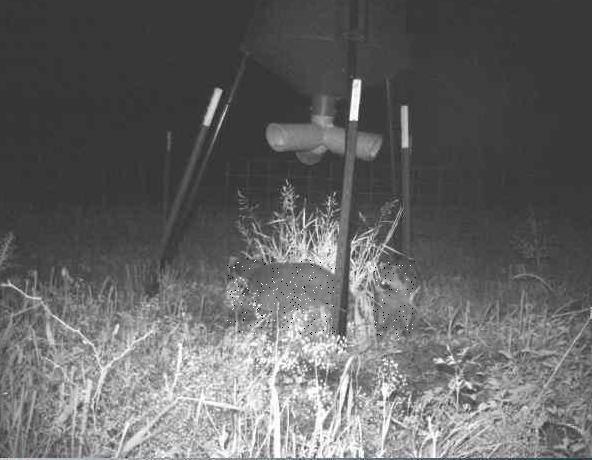Raccoon: (227, 256, 336, 335), (371, 260, 415, 340)
